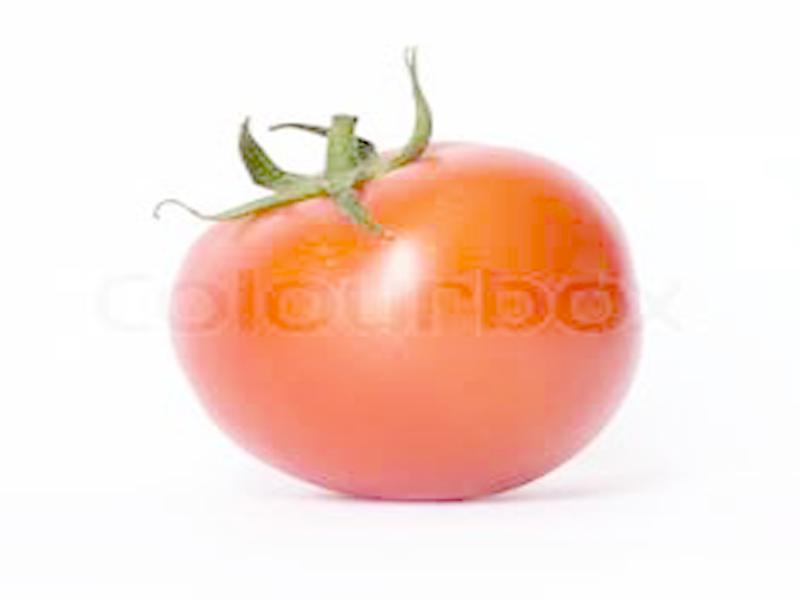Tomato: (174, 140, 640, 496)
